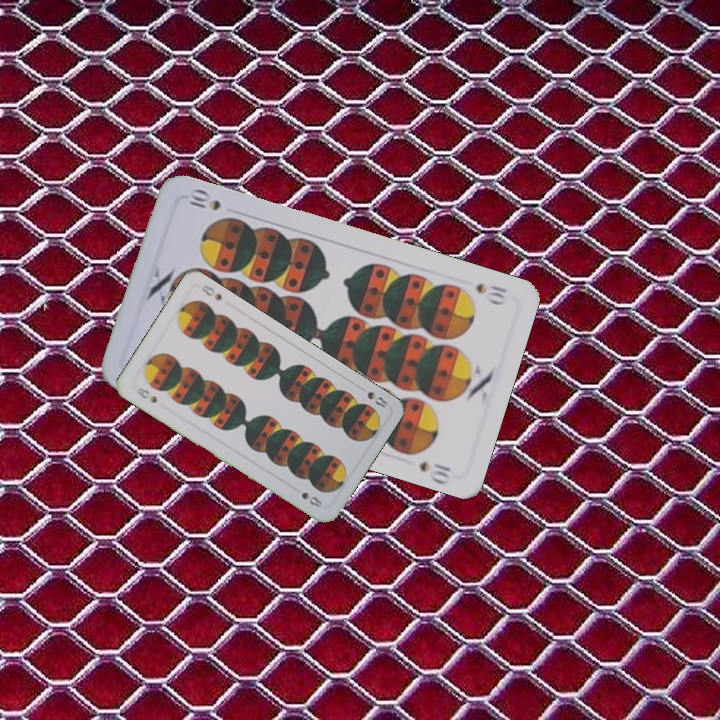S10: (472, 279, 510, 308)
S8: (354, 382, 391, 410), (132, 383, 160, 406)
